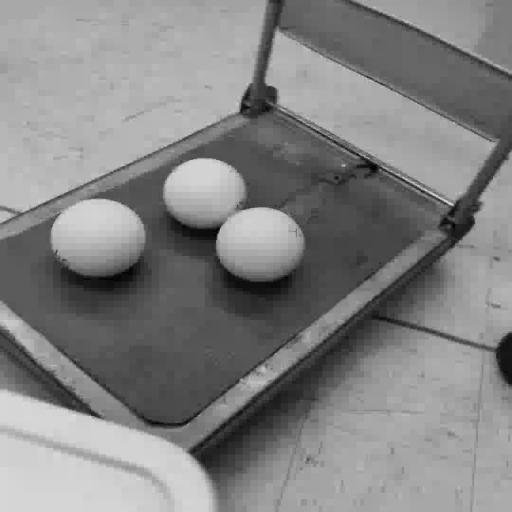fuel: (51, 199, 146, 277), (216, 208, 304, 282), (163, 158, 246, 229)
